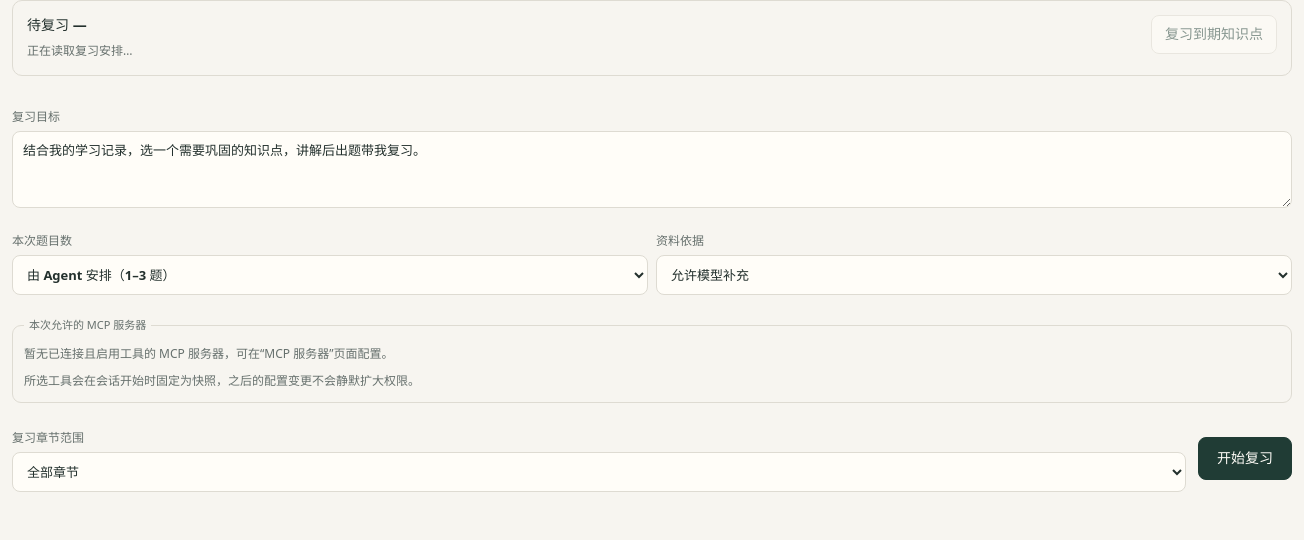
Scenario: keeps an empty due queue disabled and discards a stale chapter result
Select "存储器" in the dropdown labelled "复习章节范围" at (599, 472), box x1=12 y1=452 x2=1186 y2=492
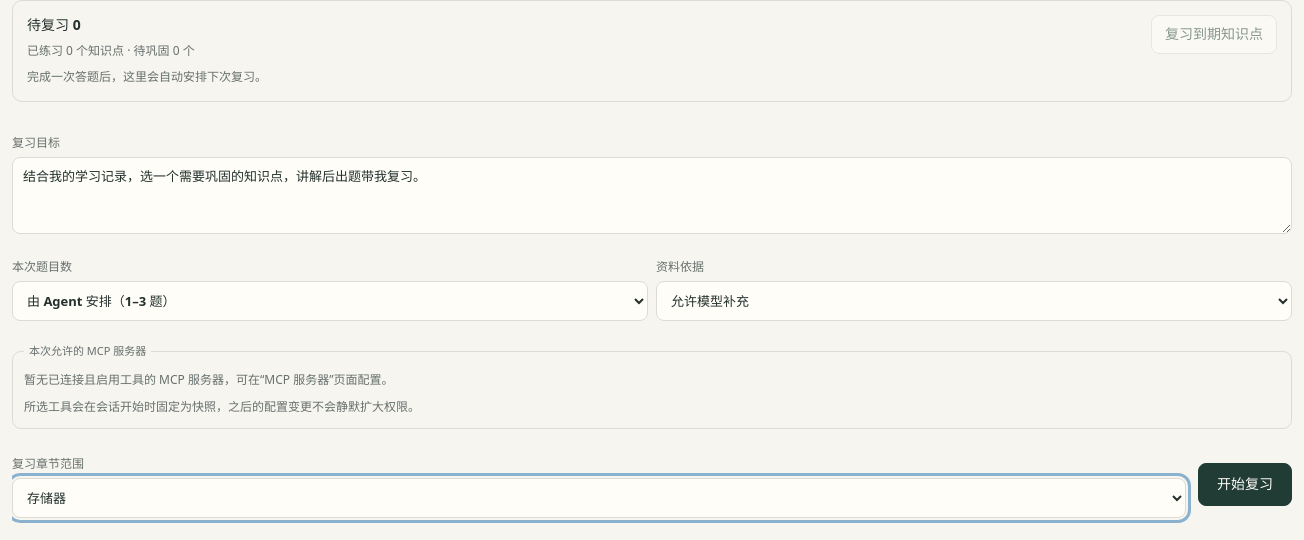
Expected: the button "复习到期知识点" is disabled, x1=1151 y1=15 x2=1277 y2=54
Now the text "待复习 0" is shown, box x1=27 y1=15 x2=81 y2=34
